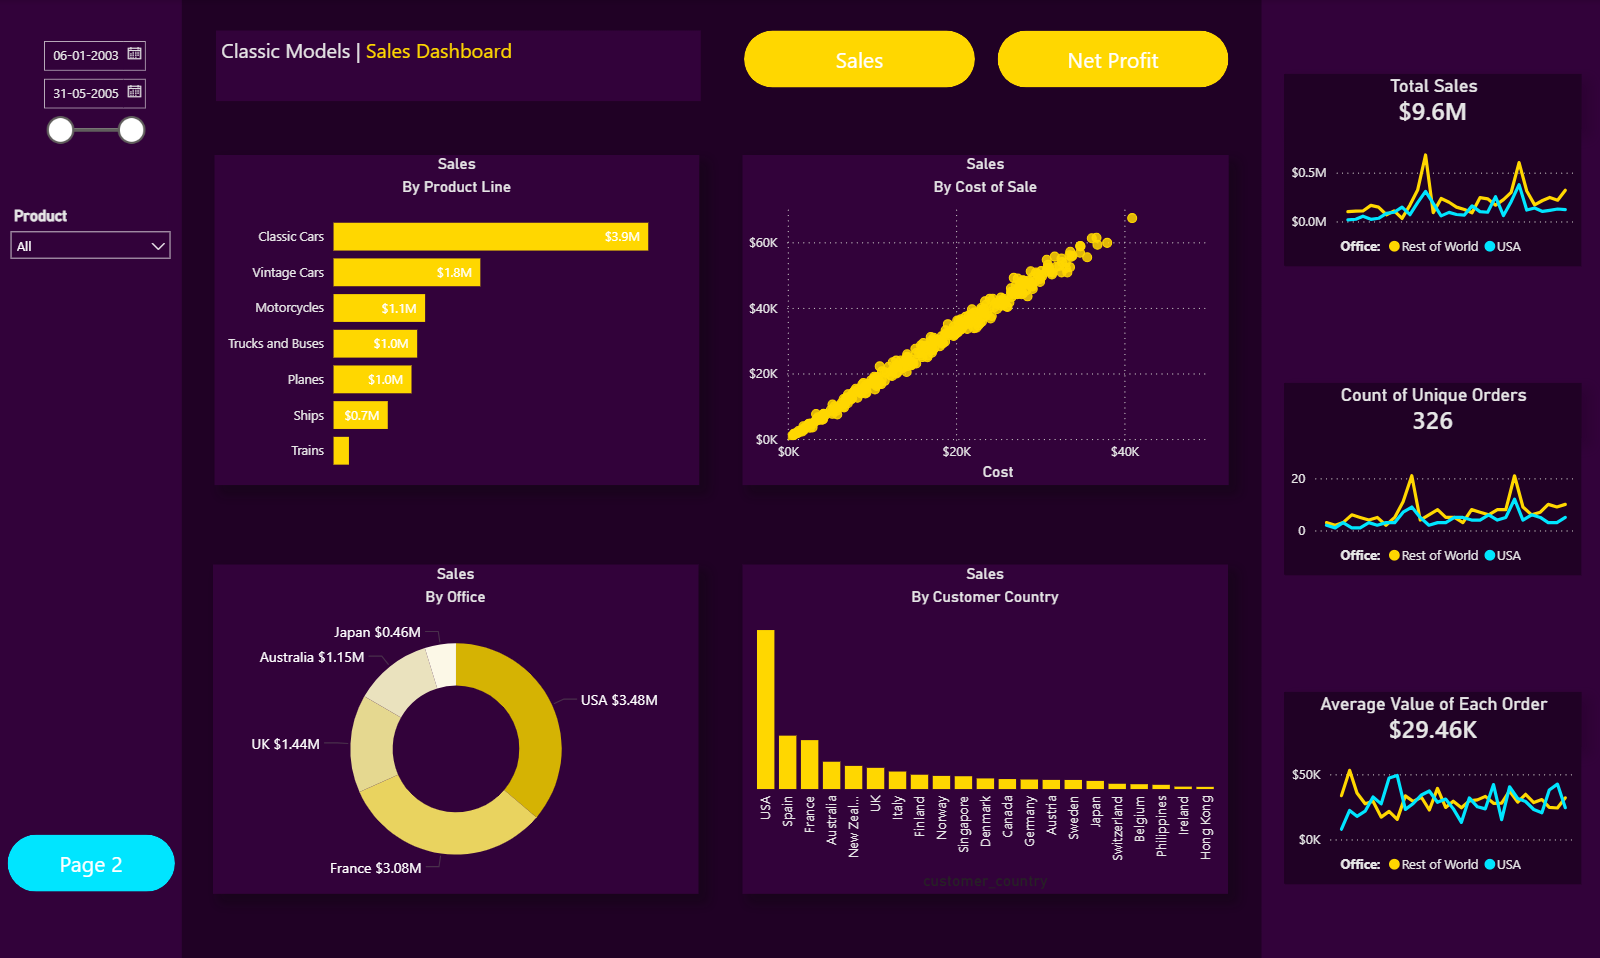

What the dashboard file says about the page in this screenshot:
{"tool":"powerbi","page":{"name":"Sales overview - Page 1","canvas":[1500,900],"ordinal":0},"visuals":[{"type":"shape","box":[0,0,170,900.6],"z":0},{"type":"shape","box":[1179.7,0,319.8,900.6],"z":1000},{"type":"shape","box":[1200.8,70.1,277.7,179.6],"z":2000},{"type":"shape","box":[1200.8,359.1,277.7,179.6],"z":3000},{"type":"shape","box":[1200.8,648.1,277.7,179.6],"z":4000},{"type":"cardVisual","title":"Total Sales","fields":{"Data":["Sum(classicmodels sales_data_for_power_bi.sales_value)"]},"box":[1202.2,70.1,276.3,50.5],"z":5000},{"type":"cardVisual","title":"Count of Unique Orders","fields":{"Data":["Count(classicmodels sales_data_for_power_bi.orderNumber)"]},"box":[1202.2,359.1,276.3,50.5],"z":6000},{"type":"cardVisual","title":"Average Value of Each Order","fields":{"Data":["classicmodels sales_data_for_power_bi.Average Sales Value per Order"]},"box":[1202.2,648.1,276.3,50.5],"z":7000},{"type":"lineChart","fields":{"Y":["Sum(classicmodels sales_data_for_power_bi.sales_value)"],"Category":["classicmodels sales_data_for_power_bi.orderDate.Variation.Date Hierarchy.Year","classicmodels sales_data_for_power_bi.orderDate.Variation.Date Hierarchy.Quarter","classicmodels sales_data_for_power_bi.orderDate.Variation.Date Hierarchy.Month"],"Series":["classicmodels sales_data_for_power_bi.Office Grouped"]},"box":[1202.2,120.6,276.3,129.1],"z":8000},{"type":"lineChart","fields":{"Series":["classicmodels sales_data_for_power_bi.Office Grouped"],"Category":["classicmodels sales_data_for_power_bi.orderDate.Variation.Date Hierarchy.Year","classicmodels sales_data_for_power_bi.orderDate.Variation.Date Hierarchy.Quarter","classicmodels sales_data_for_power_bi.orderDate.Variation.Date Hierarchy.Month"],"Y":["Count(classicmodels sales_data_for_power_bi.orderNumber)"]},"box":[1202.2,409.6,276.3,129.1],"z":9000},{"type":"lineChart","fields":{"Series":["classicmodels sales_data_for_power_bi.Office Grouped"],"Category":["classicmodels sales_data_for_power_bi.orderDate.Variation.Date Hierarchy.Year","classicmodels sales_data_for_power_bi.orderDate.Variation.Date Hierarchy.Quarter","classicmodels sales_data_for_power_bi.orderDate.Variation.Date Hierarchy.Month"],"Y":["classicmodels sales_data_for_power_bi.Average Sales Value per Order"]},"box":[1202.2,698.6,276.3,129.1],"z":10000},{"type":"clusteredBarChart","fields":{"Category":["classicmodels sales_data_for_power_bi.productLine"],"Y":["Table.Selected Metric"]},"box":[200.1,145.9,453.1,308.6],"z":11000},{"type":"actionButton","box":[695.8,29.5,216,53.3],"z":12000},{"type":"actionButton","box":[932.8,29.5,216,53.3],"z":13000},{"type":"scatterChart","fields":{"Y":["Table.Selected Metric"],"X":["Sum(classicmodels sales_data_for_power_bi.cost_of_sales)"],"Category":["classicmodels sales_data_for_power_bi.orderNumber"]},"box":[693.9,145.9,454.5,308.6],"z":15000},{"type":"donutChart","fields":{"Y":["Table.Selected Metric"],"Category":["classicmodels sales_data_for_power_bi.office_country"]},"box":[199.6,528.3,453.8,308],"z":16000},{"type":"columnChart","fields":{"Category":["classicmodels sales_data_for_power_bi.customer_country"],"Y":["Table.Selected Metric"]},"box":[694,528.3,453.8,308],"z":17000},{"type":"textbox","box":[202,29.5,453.1,65.9],"z":18000},{"type":"actionButton","box":[7.2,781.4,156.6,53.6],"z":19000},{"type":"slicer","fields":{"Values":["classicmodels sales_data_for_power_bi.orderDate"]},"box":[27.5,29,116,117.4],"z":20000},{"type":"slicer","fields":{"Values":["classicmodels sales_data_for_power_bi.productName"]},"box":[0,189.9,169.6,79.7],"z":21000}]}

Visuals, with their boxes in screenshot pixels (x1, y1, x2, y2), scaled from the page's 1500x900 canvas onto the 1600x958 screenshot:
shape: pyautogui.locateOnScreen(0, 0, 181, 957)
shape: pyautogui.locateOnScreen(1258, 0, 1599, 957)
shape: pyautogui.locateOnScreen(1281, 75, 1577, 266)
shape: pyautogui.locateOnScreen(1281, 382, 1577, 573)
shape: pyautogui.locateOnScreen(1281, 690, 1577, 881)
"Total Sales" cardVisual: pyautogui.locateOnScreen(1282, 75, 1577, 128)
"Count of Unique Orders" cardVisual: pyautogui.locateOnScreen(1282, 382, 1577, 436)
"Average Value of Each Order" cardVisual: pyautogui.locateOnScreen(1282, 690, 1577, 744)
lineChart - Sum(classicmodels sales_data_for_power_bi.sales_value) x classicmodels sales_data_for_power_bi.orderDate.Variation.Date Hierarchy.Year: pyautogui.locateOnScreen(1282, 128, 1577, 266)
lineChart - classicmodels sales_data_for_power_bi.Office Grouped x classicmodels sales_data_for_power_bi.orderDate.Variation.Date Hierarchy.Year: pyautogui.locateOnScreen(1282, 436, 1577, 573)
lineChart - classicmodels sales_data_for_power_bi.Office Grouped x classicmodels sales_data_for_power_bi.orderDate.Variation.Date Hierarchy.Year: pyautogui.locateOnScreen(1282, 744, 1577, 881)
clusteredBarChart - classicmodels sales_data_for_power_bi.productLine x Table.Selected Metric: pyautogui.locateOnScreen(213, 155, 697, 484)
actionButton: pyautogui.locateOnScreen(742, 31, 973, 88)
actionButton: pyautogui.locateOnScreen(995, 31, 1225, 88)
scatterChart - Table.Selected Metric x Sum(classicmodels sales_data_for_power_bi.cost_of_sales): pyautogui.locateOnScreen(740, 155, 1225, 484)
donutChart - Table.Selected Metric x classicmodels sales_data_for_power_bi.office_country: pyautogui.locateOnScreen(213, 562, 697, 890)
columnChart - classicmodels sales_data_for_power_bi.customer_country x Table.Selected Metric: pyautogui.locateOnScreen(740, 562, 1224, 890)
textbox: pyautogui.locateOnScreen(215, 31, 699, 102)
actionButton: pyautogui.locateOnScreen(8, 832, 175, 889)
slicer - classicmodels sales_data_for_power_bi.orderDate: pyautogui.locateOnScreen(29, 31, 153, 156)
slicer - classicmodels sales_data_for_power_bi.productName: pyautogui.locateOnScreen(0, 202, 181, 287)
